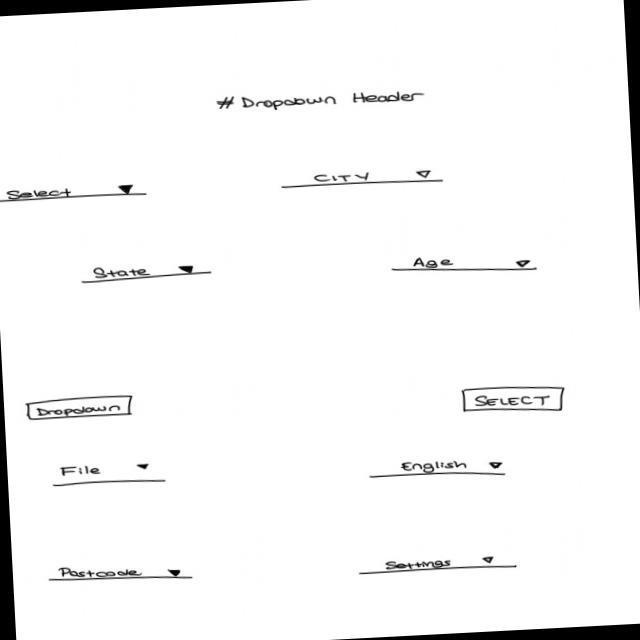button: (461, 382, 568, 418), (25, 394, 138, 424)
label: (214, 84, 428, 116)
select: (391, 250, 541, 281), (46, 560, 195, 590), (357, 553, 520, 579), (280, 167, 448, 192), (368, 456, 509, 485), (51, 461, 169, 492), (1, 182, 151, 206), (80, 261, 215, 287)
